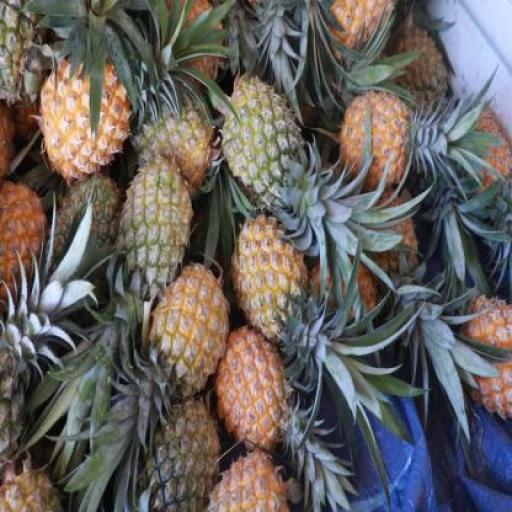------------------------------: (224, 78, 302, 206), (150, 259, 224, 391), (122, 160, 192, 294), (219, 324, 291, 450), (134, 98, 211, 185), (208, 443, 292, 512)
Pineapple - v8 v1: (42, 56, 128, 180), (233, 214, 307, 331), (339, 95, 411, 197)
